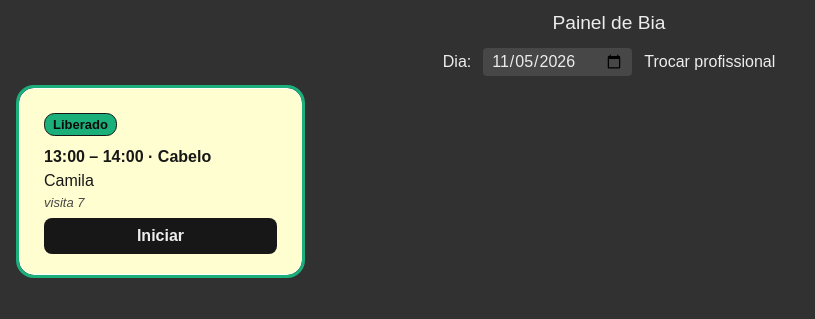
it: Painel da profissional › mostra a mensagem da API quando a ação é recusada
Click the button "Iniciar" at (160, 236), box [44,218,277,254]
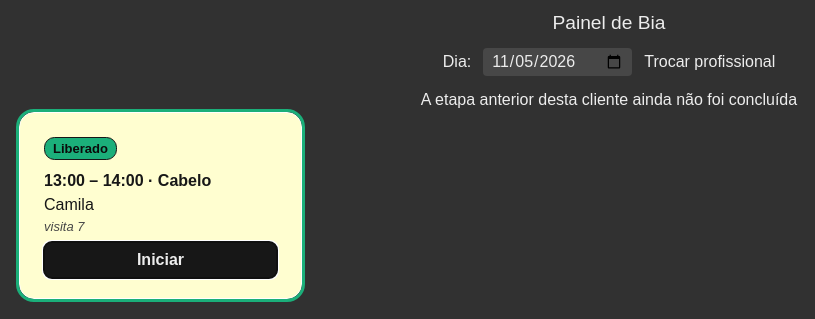
Expected: the message reads "A etapa anterior desta cliente ainda não foi concluída", [421,91,797,108]
